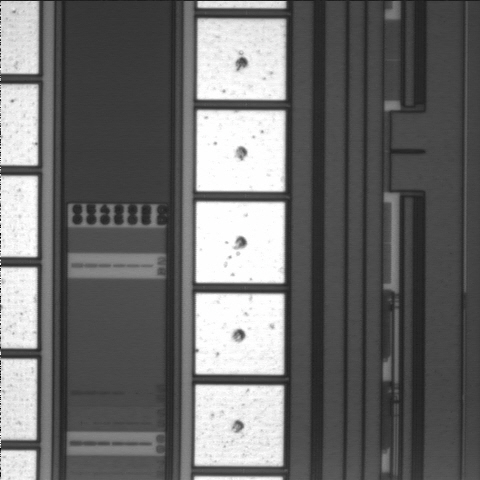pad: (196, 110, 285, 192), (195, 293, 284, 375), (197, 19, 286, 100), (196, 202, 285, 283), (195, 385, 284, 466)
